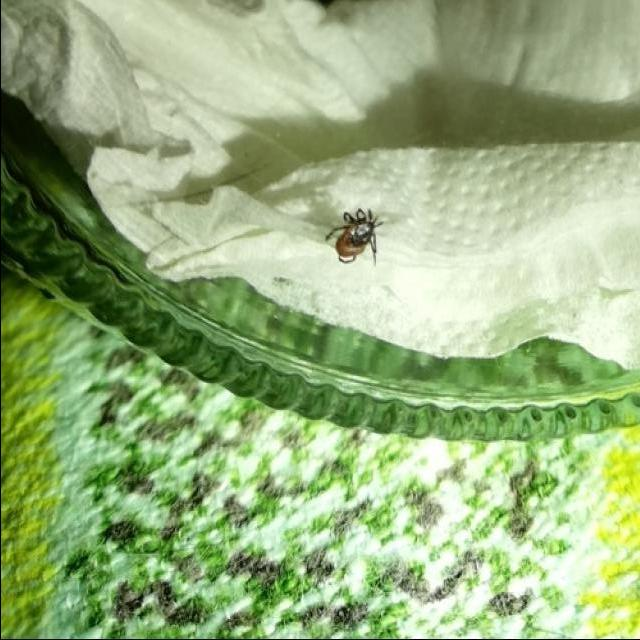Ixodes Ricinus-F: (323, 206, 383, 272)
